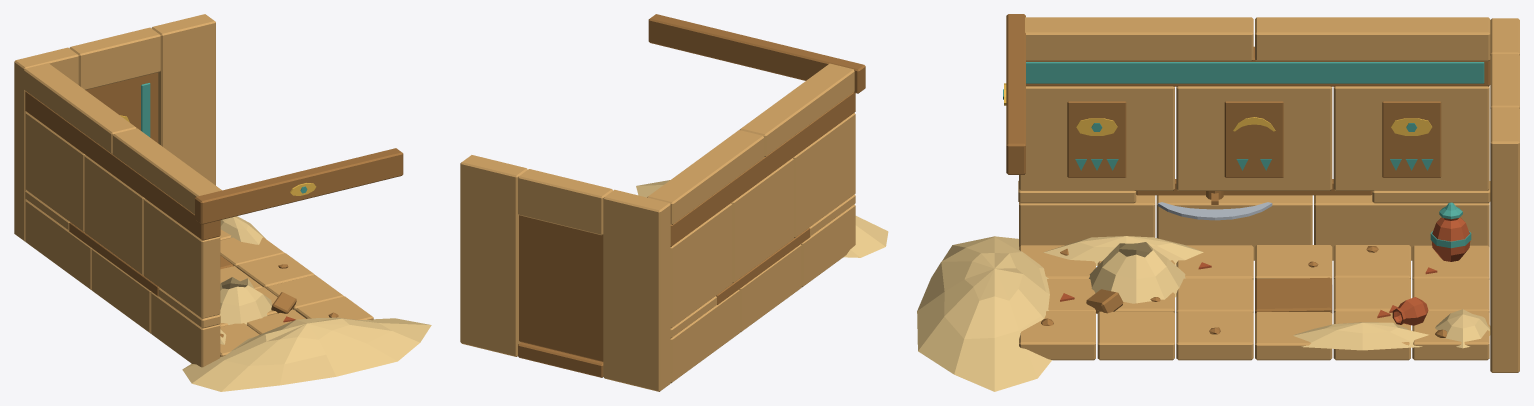
Rendered from tomb-trap-corridor.glb.
3 views of the same model, side by side, from view 1: azimuth 30°, elevation 25°; view 2: azimuth 150°, elevation 25°; view 3: azimuth 270°, elevation 25° (orthographic). The views are drawn at different scales.
Visible parts, largest first — view 1: Wall_L, BackWall, Sand, FloorTiles, Lintel_Front, Door, Door_Decor, Ceiling_Chunk; view 2: Wall_L, BackWall, Door, Lintel_Front, Sand; view 3: Wall_L, FloorTiles, Sand, Glyphs_L, BackWall, Lintel_Front, CollapsingTile, Urn, Blade_L, Jar_Broken, Ceiling_Chunk.
Part boxes in pixels (x1,y1,x2,y2): Wall_L: (24,63,221,367); BackWall: (14,14,215,241); Sand: (182,216,431,391); FloorTiles: (220,229,373,356); Lintel_Front: (195,148,403,224); Door: (85,72,158,142); Door_Decor: (120,83,150,137); Ceiling_Chunk: (271,292,296,313); Wall_L: (647,63,855,383); BackWall: (460,155,670,391); Door: (519,215,603,361); Lintel_Front: (648,14,865,93); Sand: (636,180,888,257); Wall_L: (1018,17,1490,260); FloorTiles: (1019,245,1489,360); Sand: (917,236,1490,391); Glyphs_L: (1026,62,1484,177); BackWall: (1490,18,1519,372); Lintel_Front: (1006,14,1025,174); CollapsingTile: (1255,277,1332,313); Urn: (1430,217,1471,261); Blade_L: (1157,202,1272,220); Jar_Broken: (1392,297,1428,325); Ceiling_Chunk: (1086,289,1123,313).
Size of the model in its own units: 18.72 by 13.05 by 30.64.
